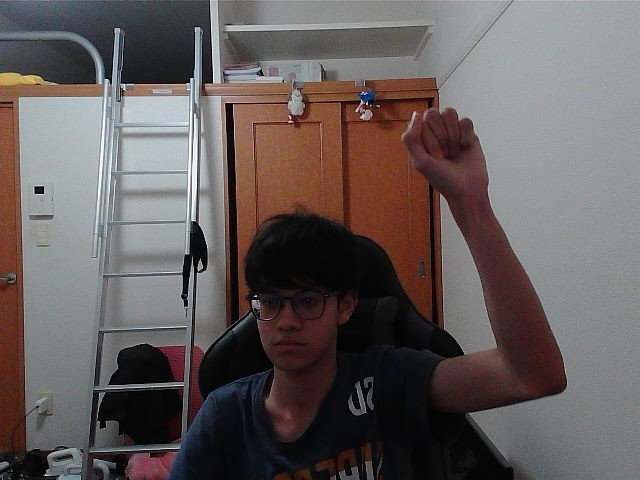closed_palm: (411, 113, 467, 188)
